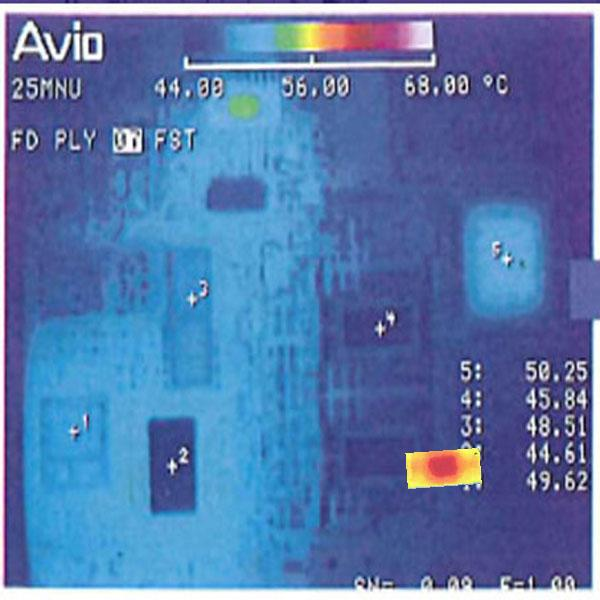componente_T: (401, 445, 488, 492), (288, 25, 352, 52)
